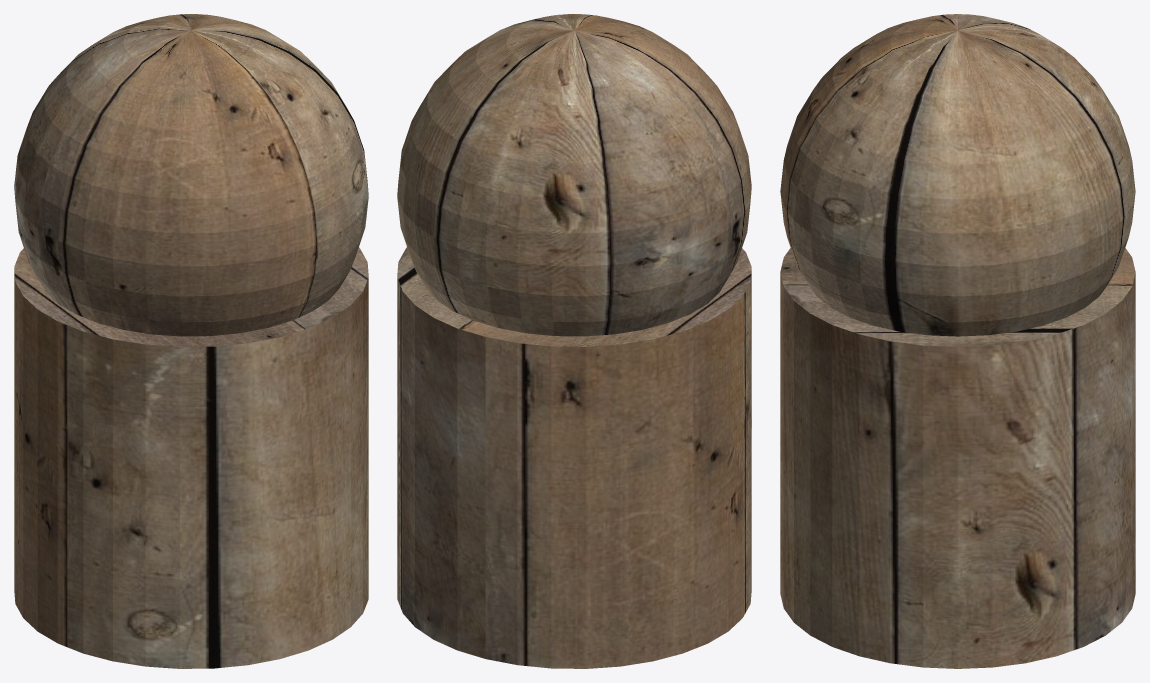
File: Pawn.glb
3 renders of one model, left to right at view 1: azimuth 30°, elevation 25°; view 2: azimuth 150°, elevation 25°; view 3: azimuth 270°, elevation 25°, orthographic.
Parts seen in each view (by area): view 1: Node1, Node2; view 2: Node1, Node2; view 3: Node1, Node2.
Part boxes in pixels (x1,y1,x2,y2): Node1: [14, 247, 368, 668]; Node2: [14, 14, 368, 336]; Node1: [397, 247, 751, 668]; Node2: [397, 14, 751, 336]; Node1: [780, 248, 1135, 668]; Node2: [780, 14, 1135, 336].
Bounding box in the file's own units: 2 × 3.5 × 2.
Materials: 1 (1 with a texture image).
